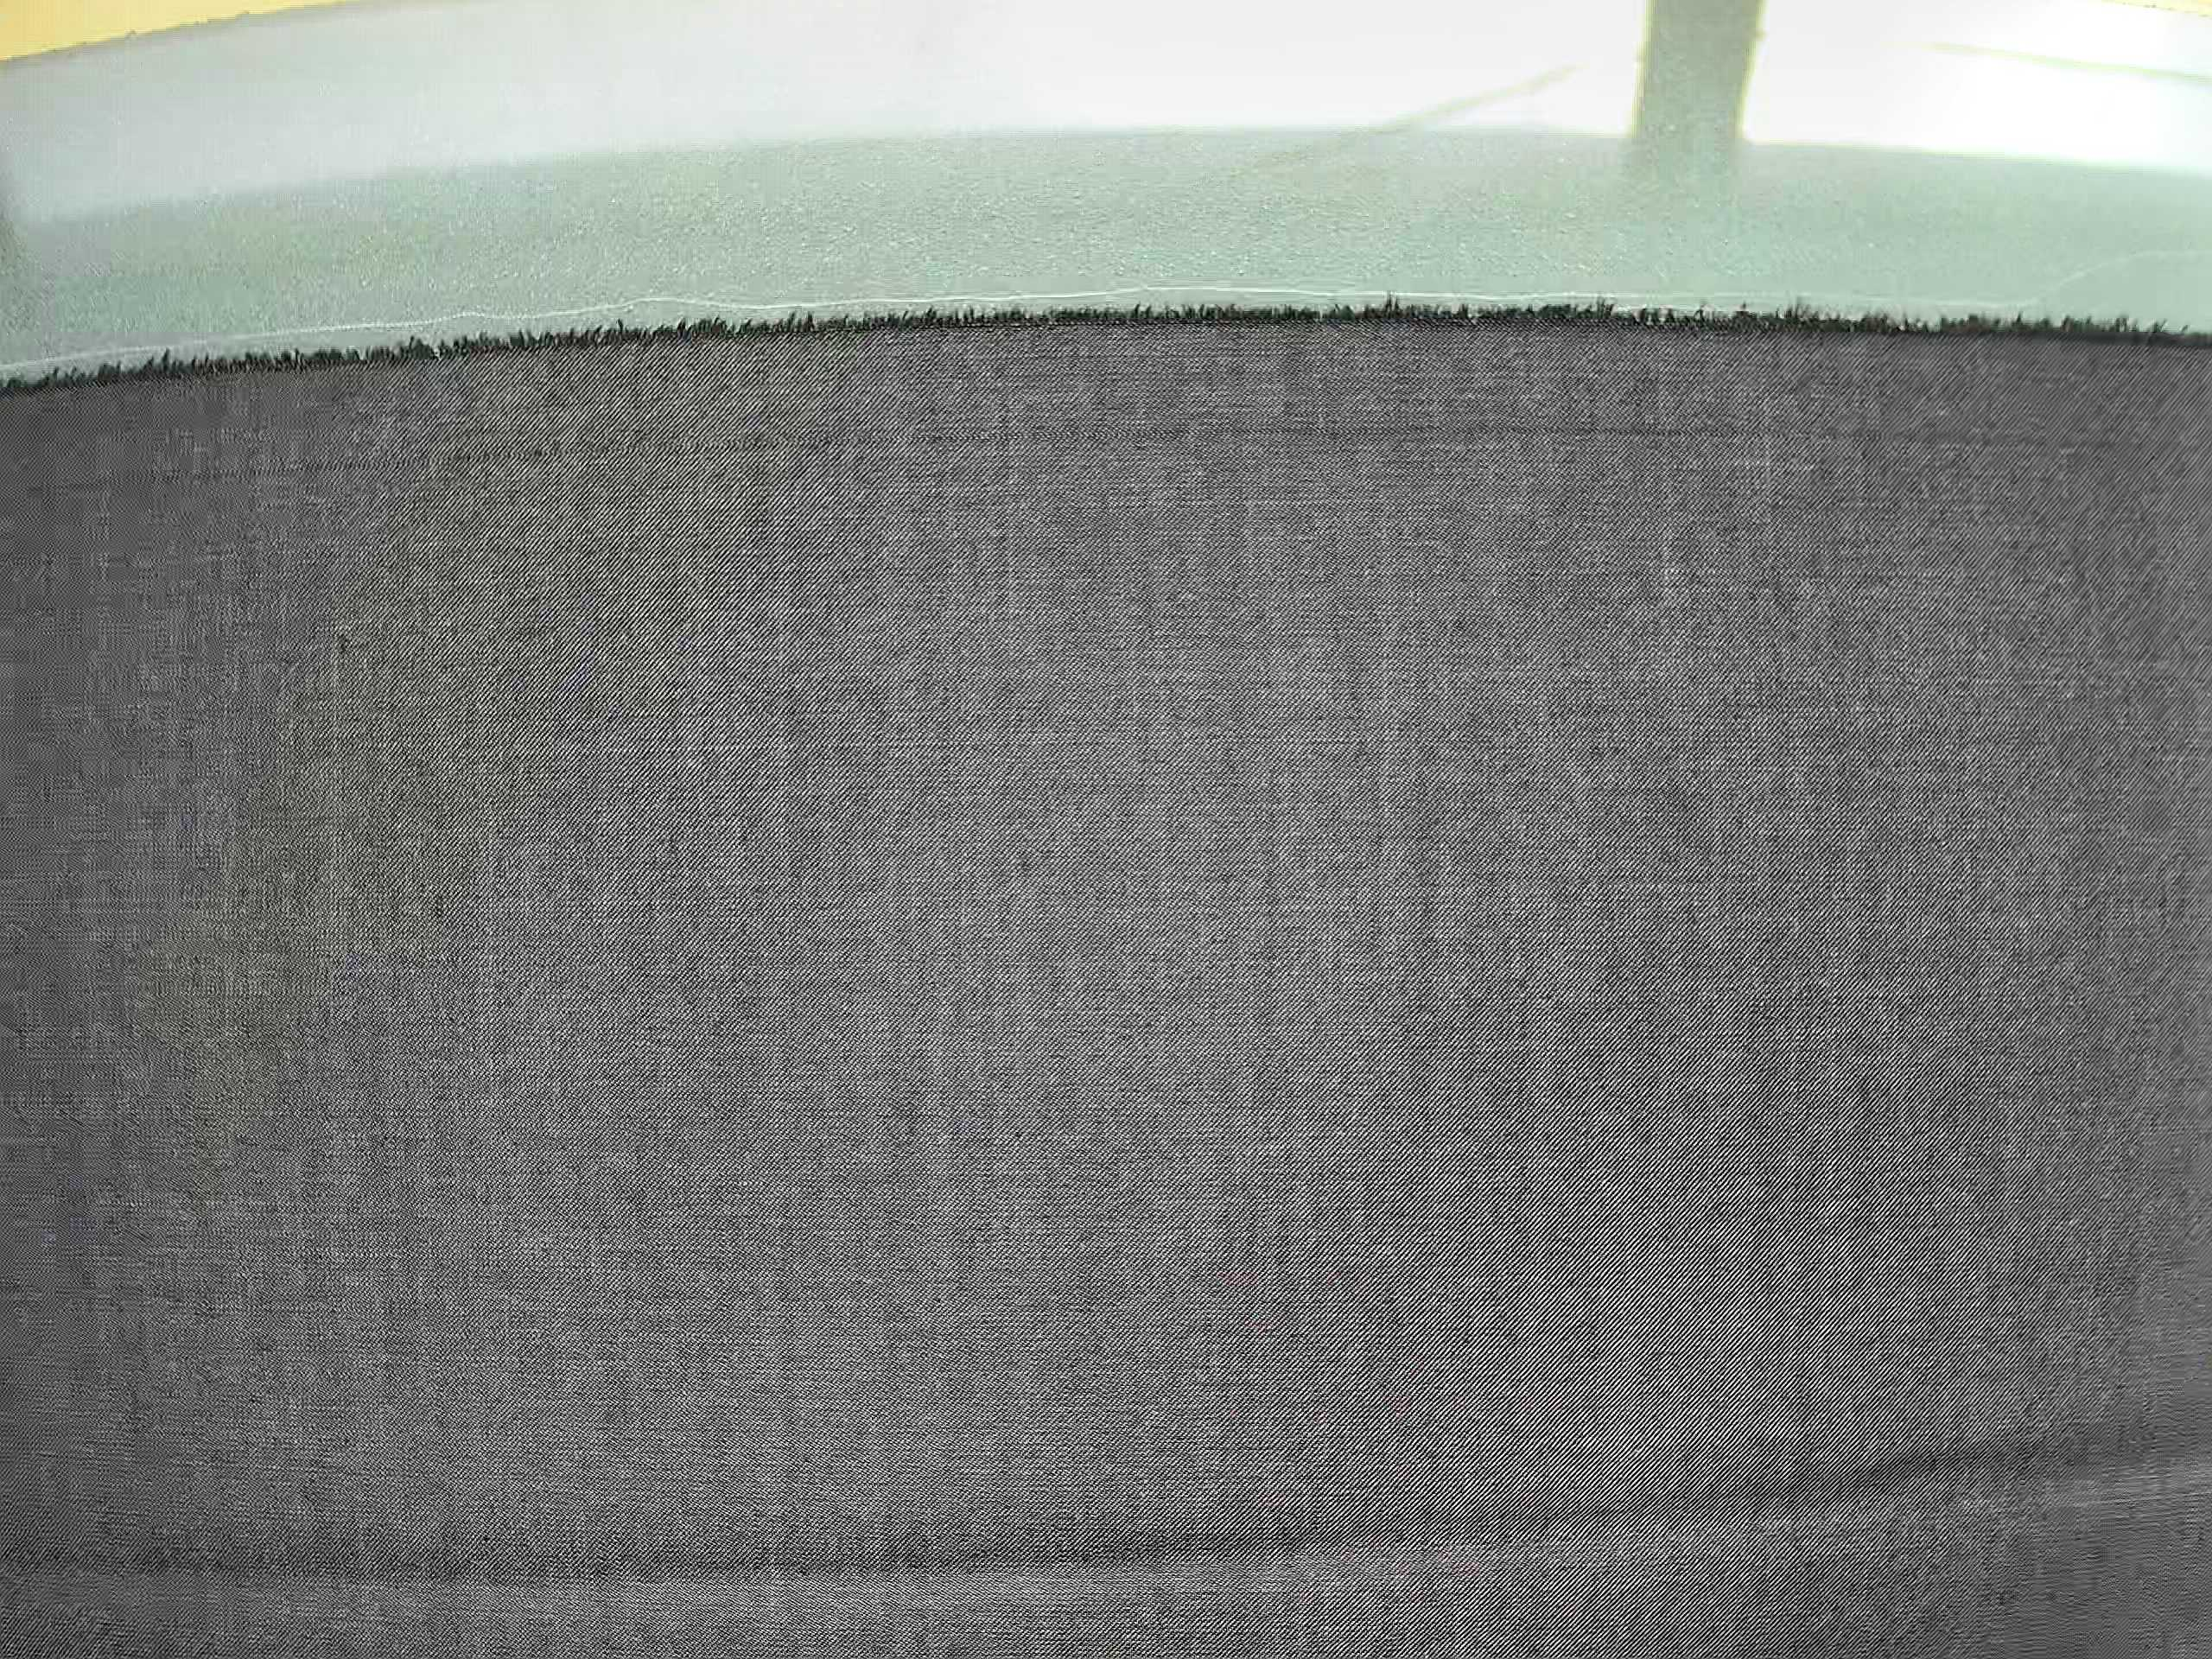others: (87, 403, 2141, 497)
